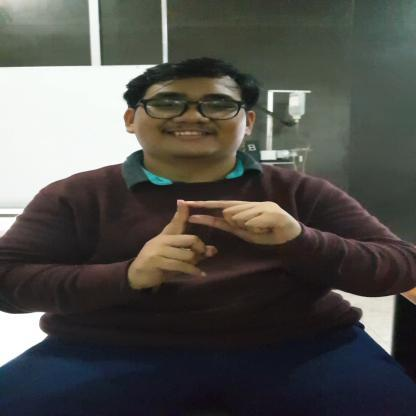P: (134, 198, 297, 288)
